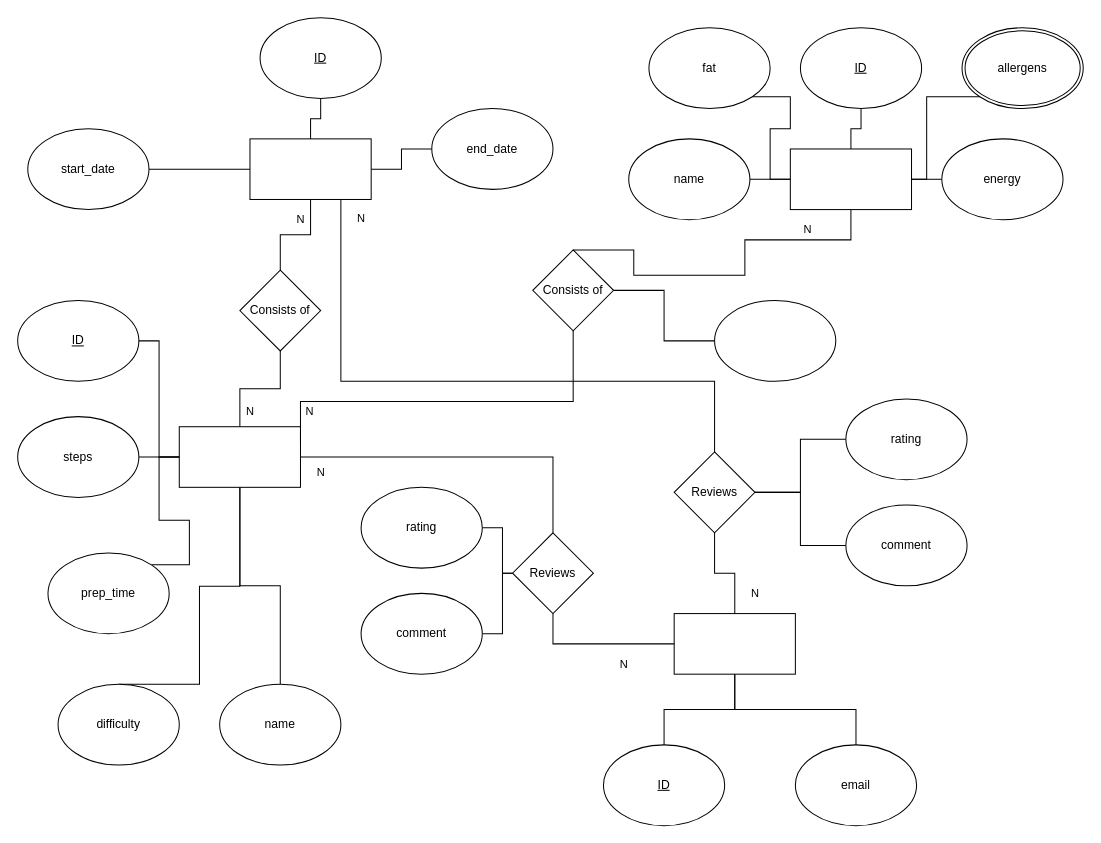
Image size: 1101x843. Some labels were removed from this diagram. Here are the shapes that lost their labels. From the top down, the centre of each, then its label:
(x=310, y=168): Menu
(x=850, y=179): Ingredient
(x=775, y=340): measurement
(x=239, y=456): Recipe
(x=734, y=643): Customer
